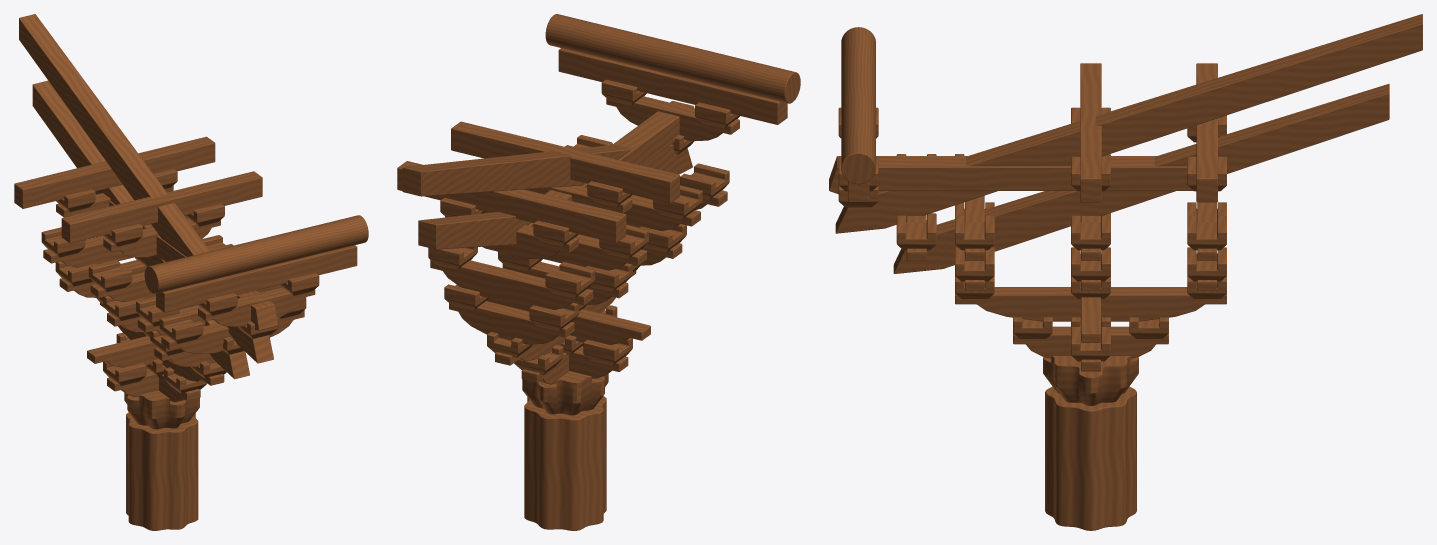
3 views of the same model, side by side, from view 1: azimuth 30°, elevation 25°; view 2: azimuth 150°, elevation 25°; view 3: azimuth 270°, elevation 25° (orthographic). The views are drawn at different scales.
Visible parts, largest first — view 1: g5_ang_26, g5_column_01, g5_beam_53, g5_timber_48, g5_timber_52, g5_timber_44, g5_ang_15, g5_dou_02, g5_gong_41, g5_gong_11, g5_gong_27, g5_shuatou_40 (+23 smaller); view 2: g5_column_01, g5_beam_53, g5_ang_26, g5_timber_48, g5_timber_44, g5_timber_52, g5_gong_30, g5_ang_15, g5_gong_18, g5_dou_02, g5_shuatou_40, g5_gong_41 (+28 smaller); view 3: g5_ang_26, g5_ang_15, g5_column_01, g5_shuatou_40, g5_gong_10, g5_beam_53, g5_dou_02, g5_timber_48, g5_timber_52, g5_gong_04, g5_dou_32, g5_dou_34 (+11 smaller).
Part boxes in pixels (box(x1,y1,x2,y2)): g5_ang_26: box(19, 14, 273, 363); g5_column_01: box(126, 412, 198, 530); g5_beam_53: box(144, 215, 368, 293); g5_timber_48: box(61, 171, 262, 243); g5_timber_52: box(14, 136, 215, 208); g5_timber_44: box(156, 245, 357, 312); g5_ang_15: box(32, 80, 249, 379); g5_dou_02: box(124, 390, 199, 429); g5_gong_41: box(198, 287, 315, 326); g5_gong_11: box(87, 336, 158, 367); g5_gong_27: box(161, 310, 304, 353); g5_shuatou_40: box(109, 201, 277, 330); g5_column_01: box(524, 396, 606, 530); g5_beam_53: box(545, 14, 800, 103); g5_ang_26: box(402, 144, 692, 196); g5_timber_48: box(451, 121, 679, 203); g5_timber_44: box(558, 48, 787, 124); g5_timber_52: box(397, 161, 626, 243); g5_gong_30: box(430, 260, 593, 309); g5_ang_15: box(418, 212, 589, 249); g5_gong_18: box(449, 301, 574, 344); g5_dou_02: box(522, 371, 608, 415); g5_shuatou_40: box(528, 101, 694, 226); g5_gong_41: box(606, 96, 739, 140); g5_ang_26: box(835, 14, 1422, 233); g5_ang_15: box(893, 84, 1389, 273); g5_column_01: box(1045, 386, 1136, 530); g5_shuatou_40: box(829, 156, 1192, 194); g5_gong_10: box(955, 287, 1226, 321); g5_beam_53: box(841, 27, 875, 184); g5_dou_02: box(1043, 356, 1138, 405); g5_timber_48: box(1080, 63, 1101, 202); g5_timber_52: box(1196, 63, 1217, 202); g5_gong_04: box(1013, 326, 1168, 358); g5_dou_32: box(896, 215, 936, 250); g5_dou_34: box(955, 215, 994, 250).
Size of the model in its own units: 1.58 by 2.89 by 3.15.
1 material, 1 textured.
